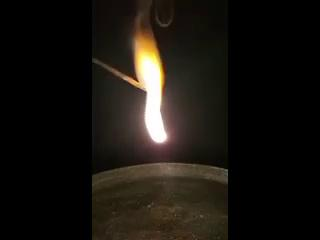Fire: (133, 24, 170, 147)
